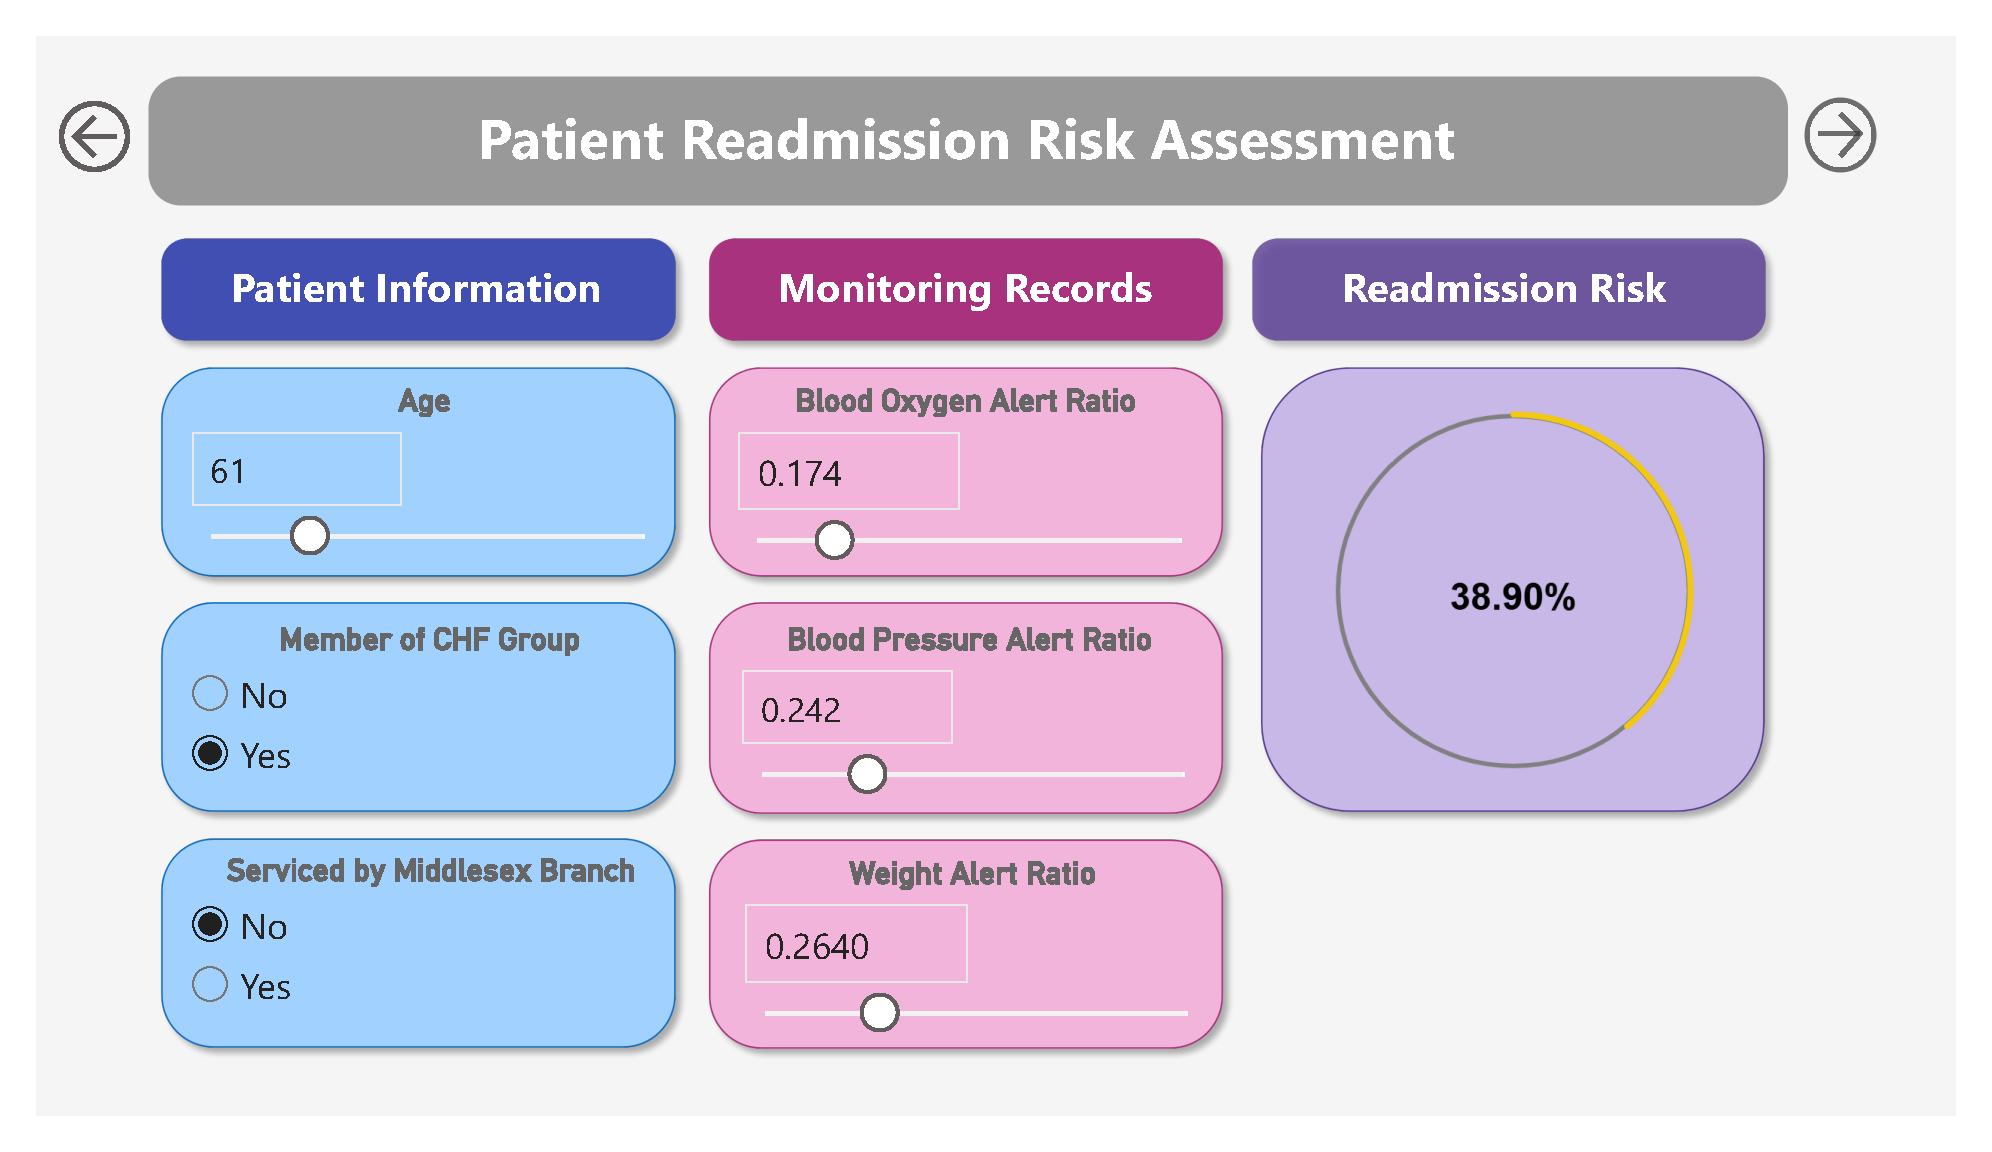

This screenshot's page, from the dashboard's own definition file:
{"tool":"powerbi","page":{"name":"Readmission Risk by Model 1","canvas":[1280,720],"ordinal":3},"visuals":[{"type":"shape","box":[0,0,1280.4,720.5],"z":0},{"type":"shape","box":[74.8,211.6,360,156.9],"z":0,"group":"g2"},{"type":"shape","box":[440,211.6,360.3,157.3],"z":0,"group":"g1"},{"type":"shape","box":[808,211.6,353.1,314.9],"z":1000},{"type":"shape","box":[74.8,368.5,360,156.9],"z":1000,"group":"g2"},{"type":"shape","box":[440,368.9,360.3,157.3],"z":1000,"group":"g1"},{"type":"shape","box":[74.8,27,1092.7,85.9],"z":2000},{"type":"shape","box":[74.8,525.5,360,156.9],"z":2000,"group":"g2"},{"type":"shape","box":[440,526.3,360.3,157.3],"z":2000,"group":"g1"},{"type":"group","id":"g1","title":"Background(2)","box":[440,211.6,360,470.8],"z":3000},{"type":"group","id":"g2","title":"Background(1)","box":[74.8,211.6,360,470.8],"z":4000},{"type":"slicer","title":"Blood Pressure Alert Ratio","fields":{"Values":["Blood Pressure Alert Ratio.Blood Pressure Alert Ratio"]},"box":[458.1,389.7,329.3,125.7],"z":5000},{"type":"shape","box":[1178.6,41.8,48.5,49.6],"z":6000,"group":"g3"},{"type":"slicer","title":"Blood Oxygen Alert Ratio","fields":{"Values":["Blood Oxygen Alert Ratio.Blood Oxygen Alert Ratio"]},"box":[455,231,330,125.7],"z":6000},{"type":"actionButton","box":[1182,39.5,66.5,54.1],"z":7000,"group":"g3"},{"type":"slicer","title":"Weight Alert Ratio","fields":{"Values":["Weight Alert Ratio.Weight Alert Ratio"]},"box":[459.7,545.6,329.3,136.8],"z":7000},{"type":"slicer","title":"Member of CHF Group","fields":{"Values":["CHF Group.CHF Group"]},"box":[90.7,389.7,343.6,114.5],"z":8000},{"type":"slicer","title":"Serviced by Middlesex Branch","fields":{"Values":["Middlesex Branch.Middlesex Branch"]},"box":[90.7,544,345.2,117.7],"z":9000},{"type":"textbox","box":[98.6,36.6,1043.4,66.8],"z":10000},{"type":"payPalKPIDonutChart55A431AB15A540ED924ACD72ED8D259F","fields":{"myvalue":["_Measure.Readmission Chance"]},"box":[839.8,240.2,289.5,259.3],"z":11000},{"type":"slicer","title":"Age","fields":{"Values":["Age 2.Age"]},"box":[90.7,231,336,119.3],"z":12000},{"type":"shape","box":[74.8,125.7,360,85.9],"z":13000},{"type":"textbox","box":[89.1,143.2,329.3,55.7],"z":14000},{"type":"shape","box":[440,125.7,360,85.9],"z":15000},{"type":"textbox","box":[454.9,143.2,329.3,52.5],"z":16000},{"type":"shape","box":[801.7,125.7,360,85.9],"z":17000},{"type":"textbox","box":[814.4,143.2,329.3,52.5],"z":18000},{"type":"actionButton","box":[9,37.2,65.4,59.8],"z":19000},{"type":"group","id":"g3","title":"Group 1","box":[1178.6,39.5,69.9,54.1],"z":20000}]}

Visuals, with their boxes in screenshot pixels (x1, y1, x2, y2), scaled from the page's 1280x720 canvas onto the 1992x1152 screenshot:
shape: x1=0 y1=0 x2=1991 y2=1151
shape: x1=116 y1=339 x2=677 y2=590
shape: x1=685 y1=339 x2=1245 y2=590
shape: x1=1257 y1=339 x2=1807 y2=842
shape: x1=116 y1=590 x2=677 y2=841
shape: x1=685 y1=590 x2=1245 y2=842
shape: x1=116 y1=43 x2=1817 y2=181
shape: x1=116 y1=841 x2=677 y2=1092
shape: x1=685 y1=842 x2=1245 y2=1094
"Background(2)" group: x1=685 y1=339 x2=1245 y2=1092
"Background(1)" group: x1=116 y1=339 x2=677 y2=1092
"Blood Pressure Alert Ratio" slicer: x1=713 y1=624 x2=1225 y2=825
shape: x1=1834 y1=67 x2=1910 y2=146
"Blood Oxygen Alert Ratio" slicer: x1=708 y1=370 x2=1222 y2=571
actionButton: x1=1839 y1=63 x2=1943 y2=150
"Weight Alert Ratio" slicer: x1=715 y1=873 x2=1228 y2=1092
"Member of CHF Group" slicer: x1=141 y1=624 x2=676 y2=807
"Serviced by Middlesex Branch" slicer: x1=141 y1=870 x2=678 y2=1059
textbox: x1=153 y1=59 x2=1777 y2=165
payPalKPIDonutChart55A431AB15A540ED924ACD72ED8D259F - _Measure.Readmission Chance: x1=1307 y1=384 x2=1757 y2=799
"Age" slicer: x1=141 y1=370 x2=664 y2=560
shape: x1=116 y1=201 x2=677 y2=339
textbox: x1=139 y1=229 x2=651 y2=318
shape: x1=685 y1=201 x2=1245 y2=339
textbox: x1=708 y1=229 x2=1220 y2=313
shape: x1=1248 y1=201 x2=1808 y2=339
textbox: x1=1267 y1=229 x2=1780 y2=313
actionButton: x1=14 y1=60 x2=116 y2=155
"Group 1" group: x1=1834 y1=63 x2=1943 y2=150
